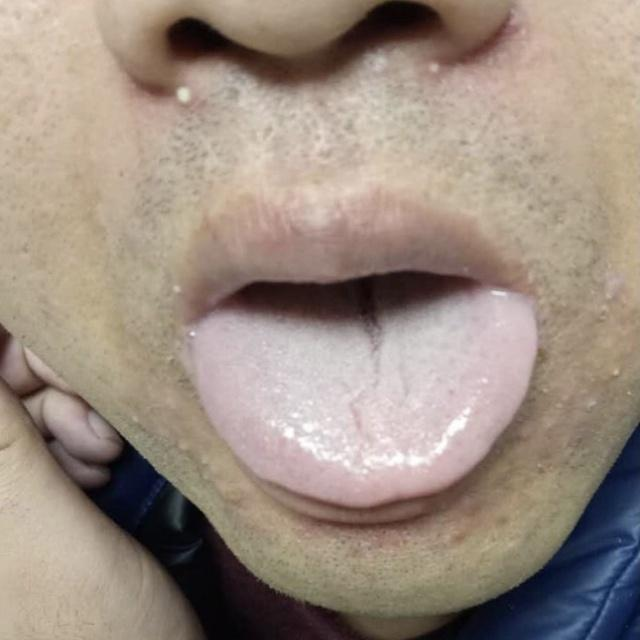baitaishe: (191, 290, 539, 508)
liewenshe: (356, 301, 388, 385)
pangdashe: (191, 290, 539, 508)
